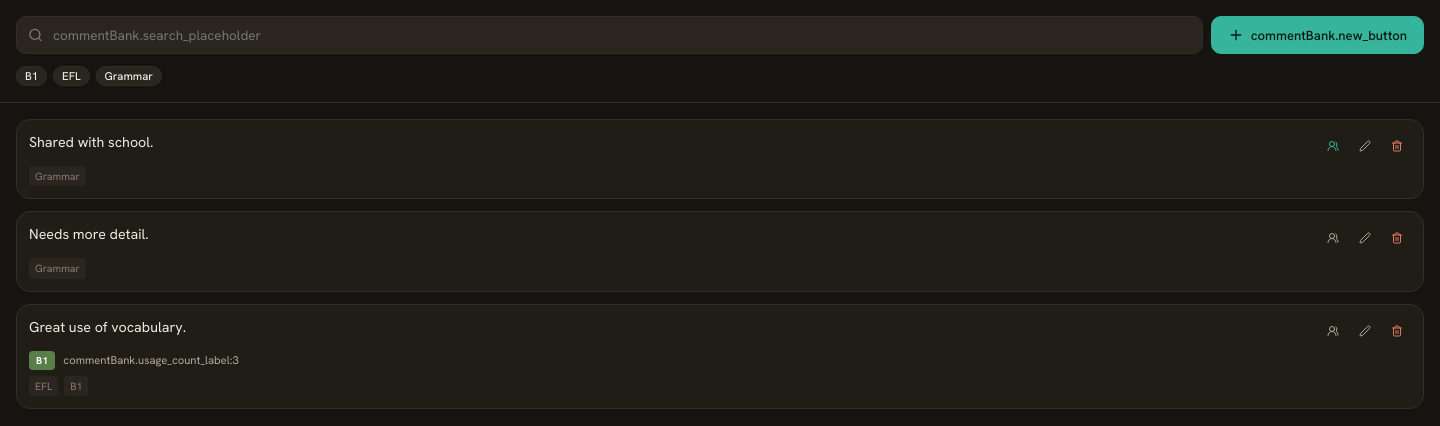
Test: CommentBankManager coverage › searches by tag when the text does not match
Type "EFL" into the field with placeholder "commentBank.search_placeholder" at (609, 35), box left=16, top=16, right=1203, bottom=54
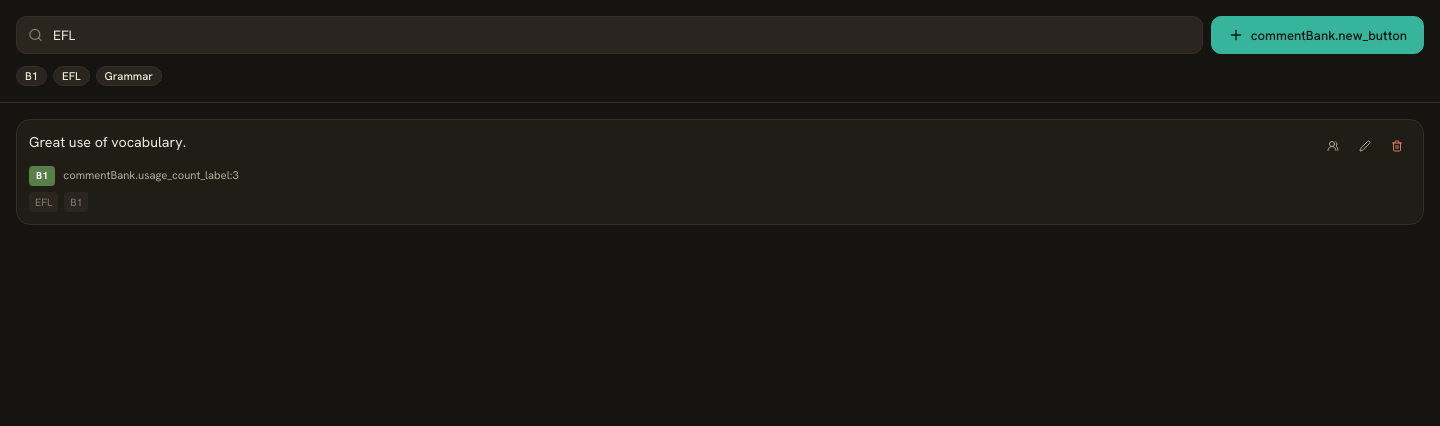
Check: the text "Great use of vocabulary." is shown, box left=29, top=133, right=186, bottom=151
Check: the text "Needs more detail." is gone
